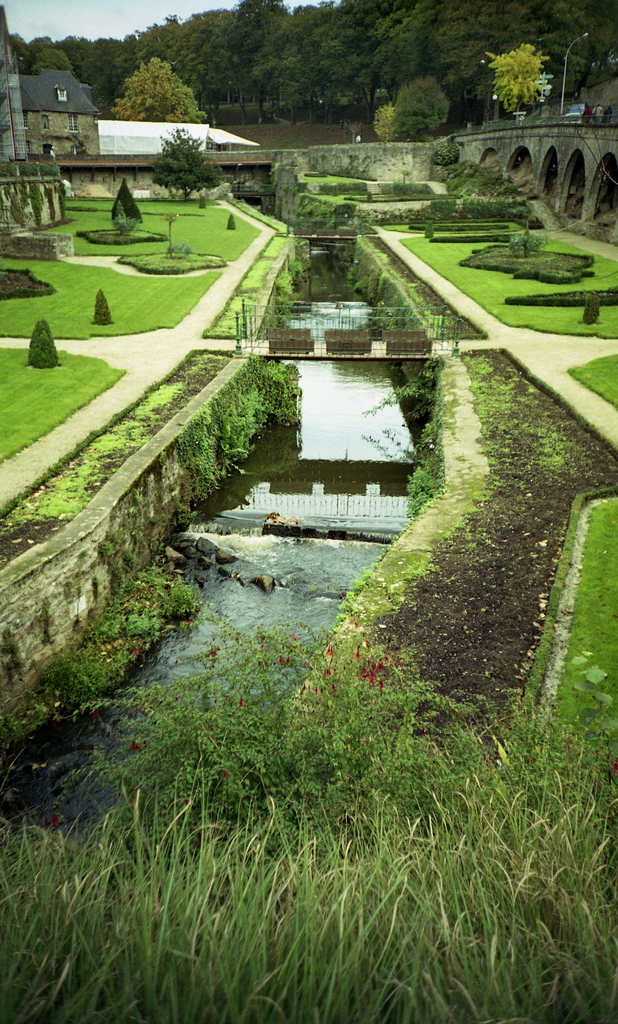Tree: (8, 0, 617, 142), (108, 57, 210, 124), (146, 125, 222, 202), (479, 43, 548, 117), (26, 319, 60, 369), (111, 178, 142, 224), (92, 288, 115, 325)
